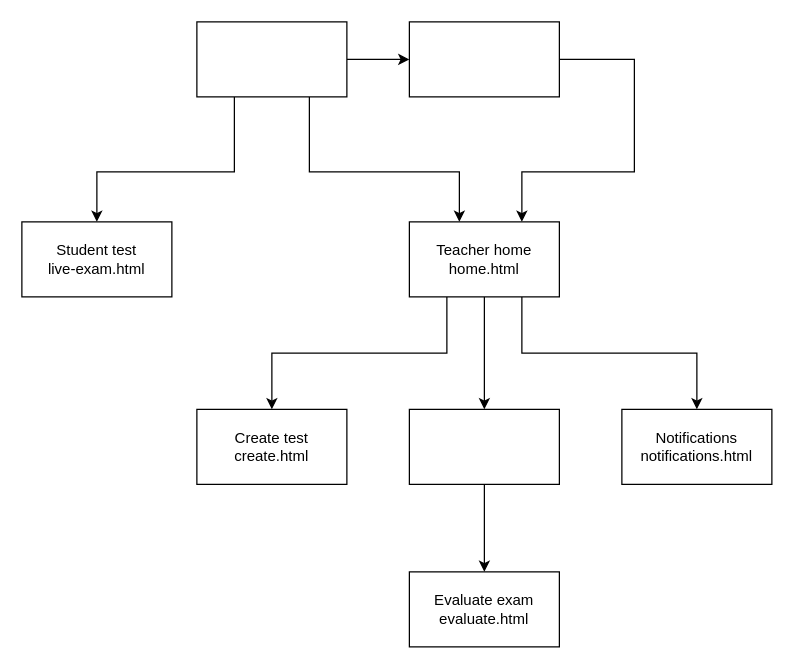
The diagram is 794 pixels wide and 669 high, and some of its shapes have lost their labels. Here are the shapes that lost their labels. From the top down, the centre of each, then its label:
At (271,59): "Login index.html".
At (483,59): "Registration register.html".
At (483,446): "Exam detail detail.html".
